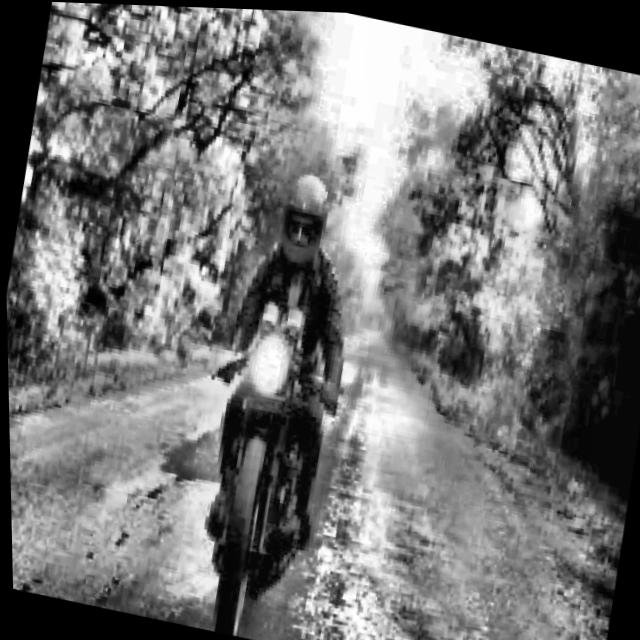motorcycle: (151, 283, 362, 640)
